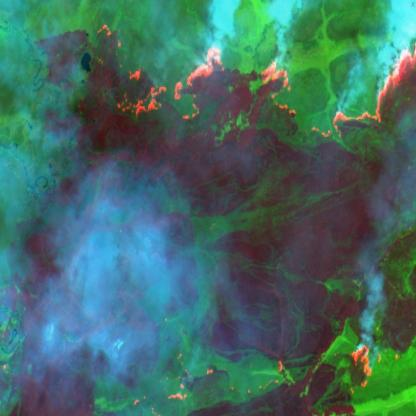fire: (96, 19, 416, 148), (346, 342, 381, 399)
